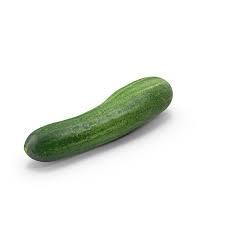non-mango: (23, 75, 173, 162)
